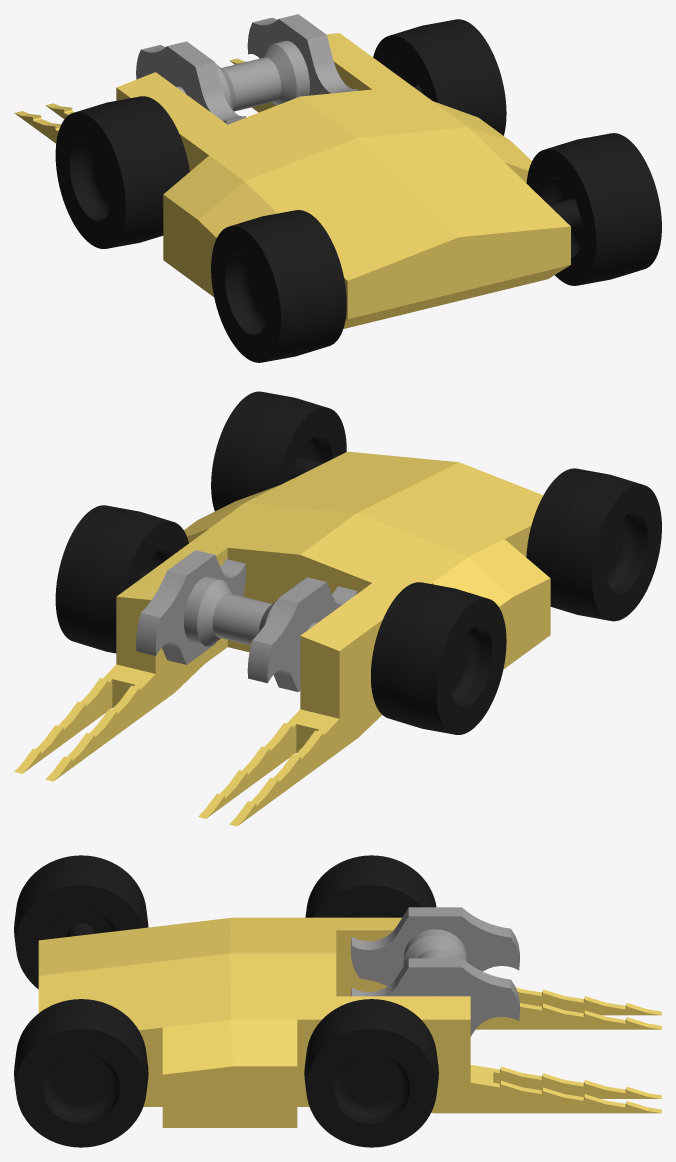
The model's file is Hypershock FBX.fbx.
The picture shows the model from 3 angles, top to bottom: view 1: azimuth 30°, elevation 25°; view 2: azimuth 150°, elevation 25°; view 3: azimuth 270°, elevation 25°; orthographic projection. The views are drawn at different scales.
Visible parts, largest first — view 1: Body1 (×3), Body3, Body4, Body2; view 2: Body1 (×3), Body4, Body3, Body2; view 3: Body1 (×3), Body2, Body3, Body4.
Boxes of the visible parts, x1,y1,x2,y2 form: Body1 (×3): (14,14,661,328); Body3: (211,210,346,362); Body4: (55,96,189,248); Body2: (373,19,506,135); Body1 (×3): (14,391,550,826); Body4: (371,582,506,734); Body3: (526,468,661,621); Body2: (55,505,188,653); Body1 (×3): (14,907,661,1147); Body2: (304,999,438,1147); Body3: (14,855,148,988); Body4: (305,855,436,917).
Bounding box in the file's own units: 29 × 9.75 × 45.75.
